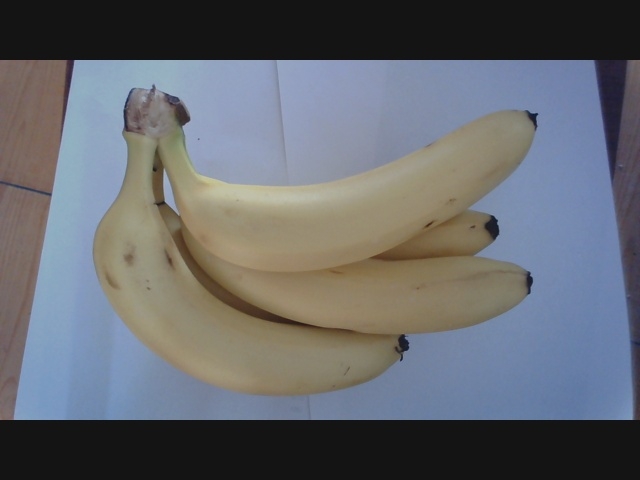banana: (88, 88, 553, 394)
